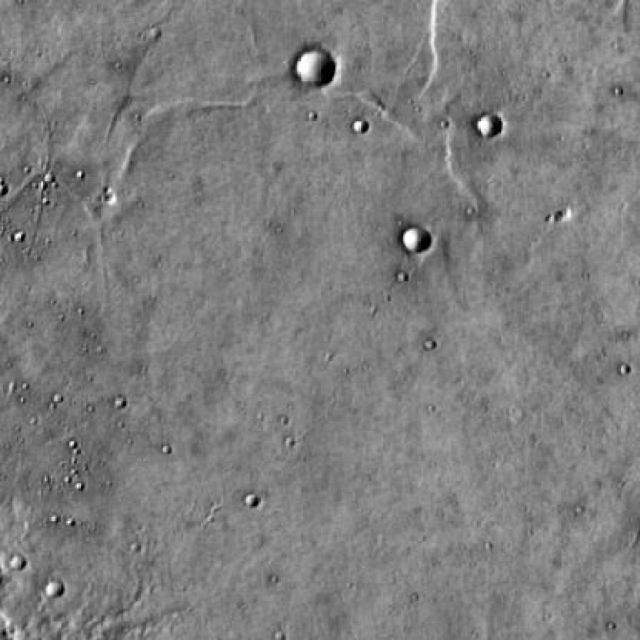crater: (294, 51, 334, 86), (475, 114, 500, 138), (406, 228, 432, 250), (45, 580, 64, 598), (8, 555, 22, 571)
